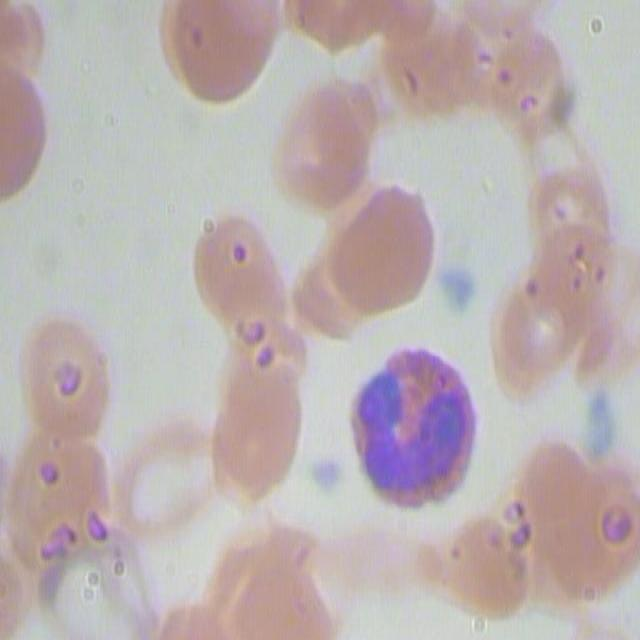RBC: (516, 416, 638, 604), (98, 490, 249, 640), (412, 453, 534, 622), (204, 304, 304, 507), (80, 394, 210, 549), (452, 2, 576, 138), (215, 508, 335, 638), (324, 176, 434, 316), (278, 67, 376, 214), (483, 272, 576, 408), (156, 2, 276, 103), (21, 308, 110, 436), (187, 209, 284, 324), (221, 308, 306, 408), (0, 64, 48, 206), (531, 166, 613, 242), (278, 0, 391, 53)
WBC: (341, 335, 482, 504)
platelets: (434, 258, 486, 324), (308, 449, 347, 500)
